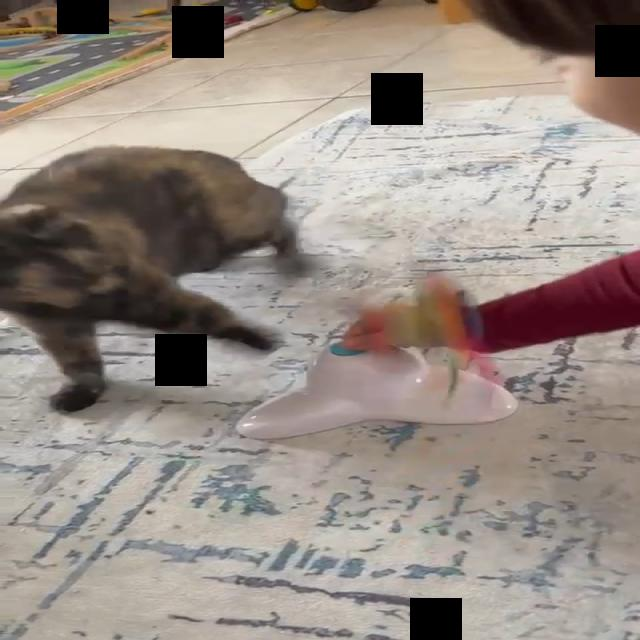authorized: (0, 143, 308, 413)
